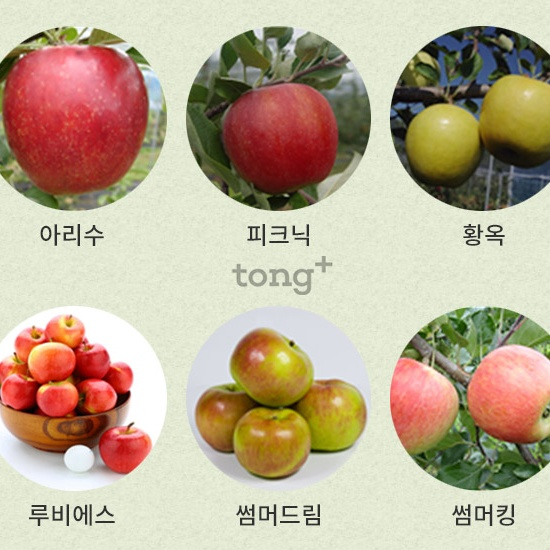apple: (1, 46, 151, 194), (221, 80, 346, 202), (466, 345, 550, 447), (390, 350, 464, 458), (228, 327, 316, 414), (403, 104, 484, 193), (476, 69, 550, 162), (97, 426, 153, 475), (25, 340, 77, 381), (69, 339, 112, 380), (41, 312, 86, 348), (77, 377, 116, 414), (100, 359, 136, 399), (1, 375, 39, 411), (39, 380, 79, 414), (14, 326, 49, 362), (1, 361, 33, 385)
